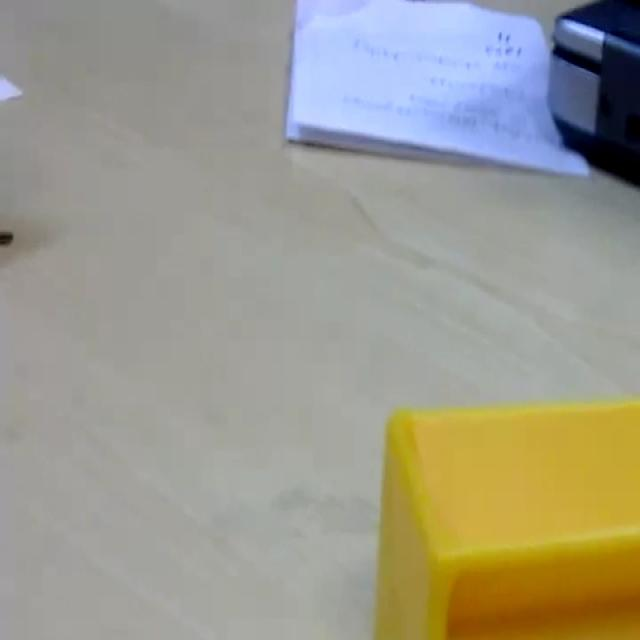yellow_block: (373, 396, 638, 636)
